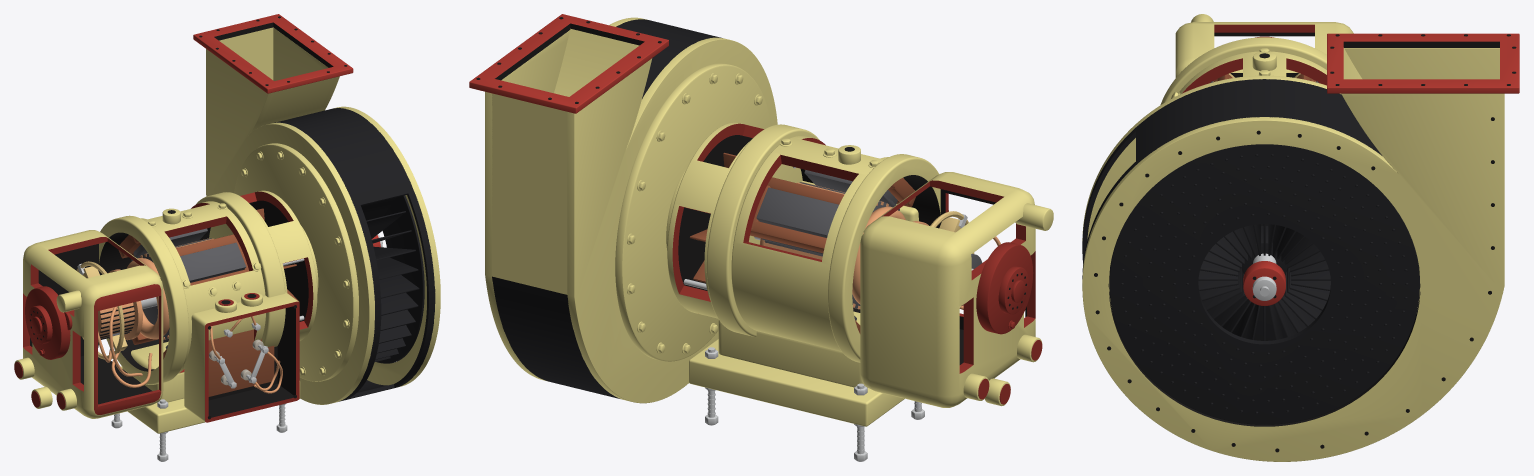
File: blower_assembly.glb
The picture shows the model from 3 angles, left to right: view 1: azimuth 30°, elevation 25°; view 2: azimuth 150°, elevation 25°; view 3: azimuth 270°, elevation 25°; orthographic projection. The views are drawn at different scales.
Visible parts, largest first — view 1: Commutator end housing, Volute back plate, Volute | Cream enamel, Volute scroll wrap, Terminal box, Yoke, Volute front ring, Yoke end band, Drive end shield, Rotor | Black enamel.002, Outlet flange, Outlet duct walls (+15 smaller); view 2: Commutator end housing, Volute back plate, Volute | Cream enamel, Outlet duct walls, Yoke, Volute scroll wrap, Drive end shield, Foot plate, Yoke end band, Outlet flange, Yoke end band.001, Foot pedestal (+11 smaller); view 3: Volute front ring, Front cover disc, Volute scroll wrap, Rotor | Black enamel.002, Volute back plate, Outlet flange, Commutator end housing, Fan cover | Black enamel, Yoke end band, Yoke, Rotor | Red outlet flange, Rotor | Black enamel (+3 smaller).
Part boxes in pixels (left/top/right/bottom): Commutator end housing: left=23, top=230, right=163, bottom=418; Volute back plate: left=206, top=49, right=374, bottom=404; Volute | Cream enamel: left=234, top=143, right=358, bottom=381; Volute scroll wrap: left=274, top=108, right=435, bottom=401; Terminal box: left=184, top=292, right=299, bottom=422; Yoke: left=111, top=201, right=265, bottom=373; Volute front ring: left=273, top=27, right=440, bottom=386; Yoke end band: left=99, top=215, right=188, bottom=384; Drive end shield: left=209, top=190, right=317, bottom=340; Rotor | Black enamel.002: left=361, top=197, right=419, bottom=361; Outlet flange: left=193, top=14, right=353, bottom=93; Outlet duct walls: left=219, top=27, right=334, bottom=127; Commutator end housing: left=860, top=172, right=1035, bottom=407; Volute back plate: left=567, top=37, right=777, bottom=403; Volute | Cream enamel: left=615, top=63, right=771, bottom=361; Outlet duct walls: left=492, top=28, right=639, bottom=294; Yoke: left=731, top=136, right=924, bottom=351; Volute scroll wrap: left=492, top=19, right=721, bottom=398; Drive end shield: left=667, top=122, right=802, bottom=318; Foot plate: left=689, top=339, right=904, bottom=426; Yoke end band: left=828, top=154, right=948, bottom=362; Outlet flange: left=469, top=14, right=668, bottom=113; Yoke end band.001: left=706, top=124, right=819, bottom=336; Foot pedestal: left=718, top=311, right=867, bottom=387; Volute front ring: left=1082, top=93, right=1504, bottom=461; Front cover disc: left=1109, top=144, right=1419, bottom=424; Volute scroll wrap: left=1082, top=79, right=1381, bottom=278; Rotor | Black enamel.002: left=1198, top=224, right=1330, bottom=340; Volute back plate: left=1082, top=48, right=1499, bottom=309; Outlet flange: left=1327, top=33, right=1519, bottom=93; Commutator end housing: left=1175, top=22, right=1353, bottom=77; Fan cover | Black enamel: left=1121, top=154, right=1408, bottom=414; Yoke end band: left=1160, top=37, right=1326, bottom=104; Yoke: left=1179, top=51, right=1326, bottom=94; Rotor | Red outlet flange: left=1243, top=261, right=1285, bottom=305; Rotor | Black enamel: left=1242, top=224, right=1286, bottom=340.
Size of the model in its own units: 0.869 by 0.723 by 0.7374.
